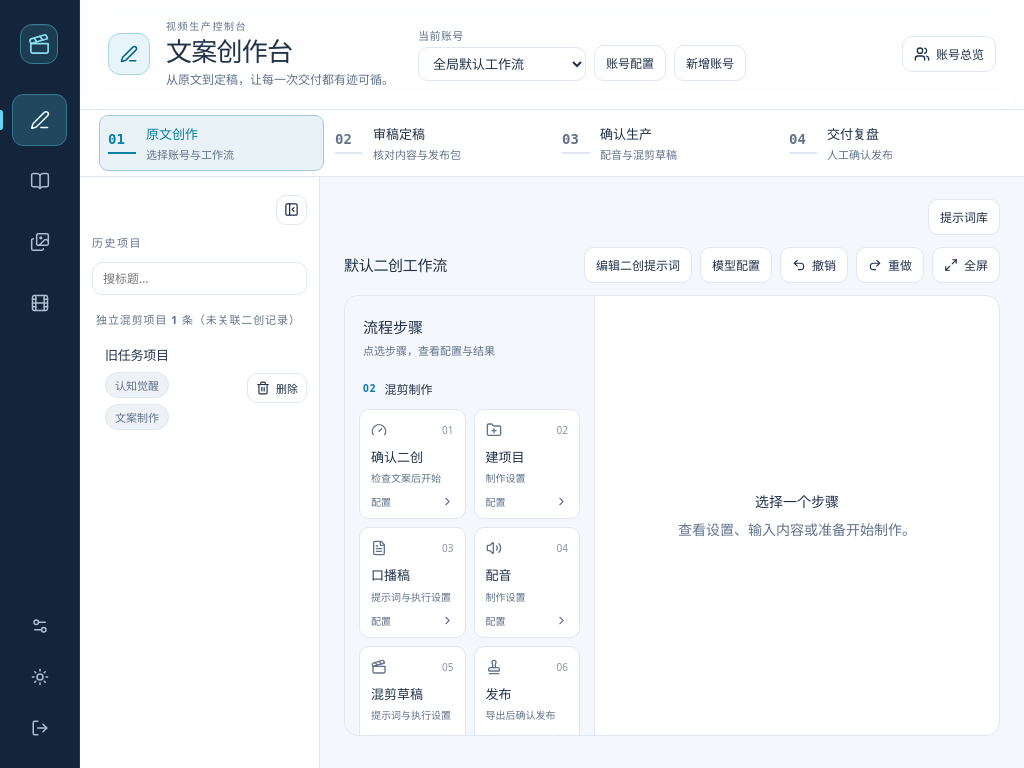
a timing summary with no phases preserves the legacy empty-phase meaning
The image size is (1024, 768).
Click the text "旧任务项目": (137, 355) [105,346,169,364]
(page scrolled)
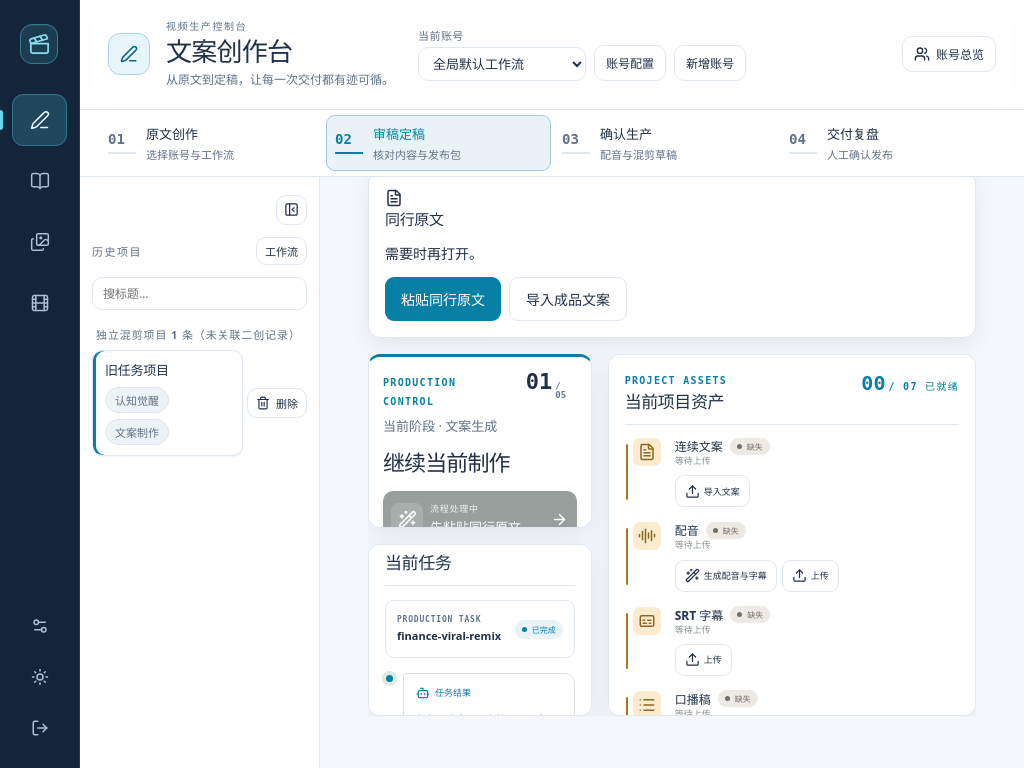
Click the button "PRODUCTION TASK finance-viral-remix 已完成": (480, 629) [385,600,575,658]
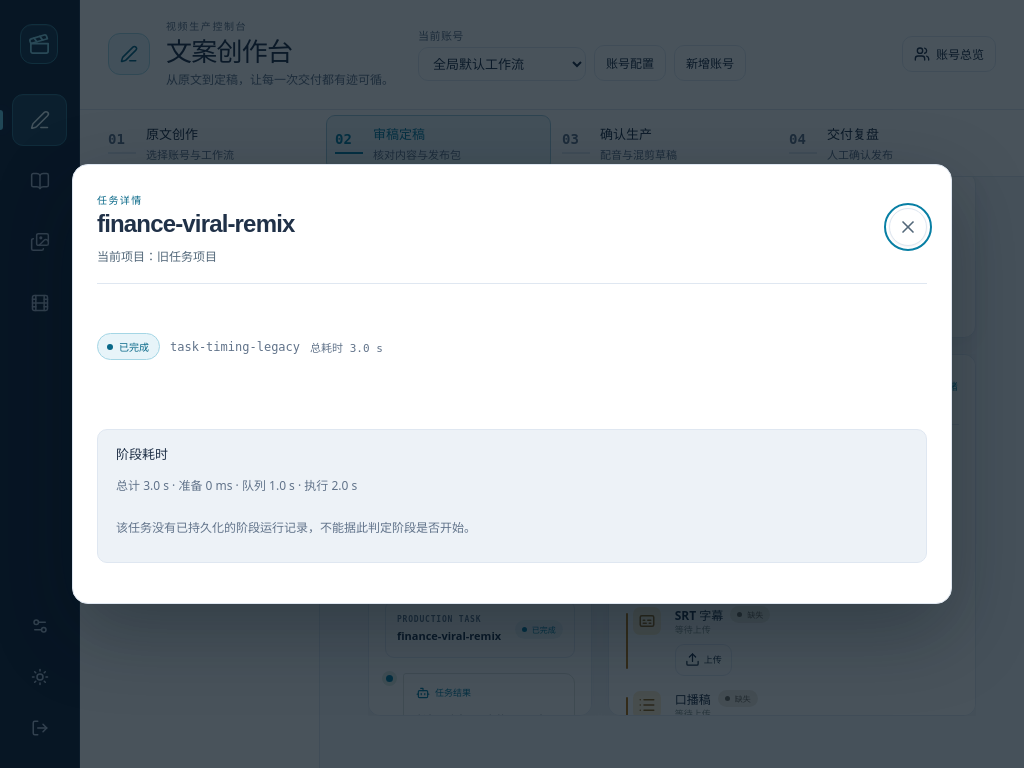
Now the text "该任务没有已持久化的阶段运行记录，不能据此判定阶段是否开始。" is shown, box [116,519,476,536]
